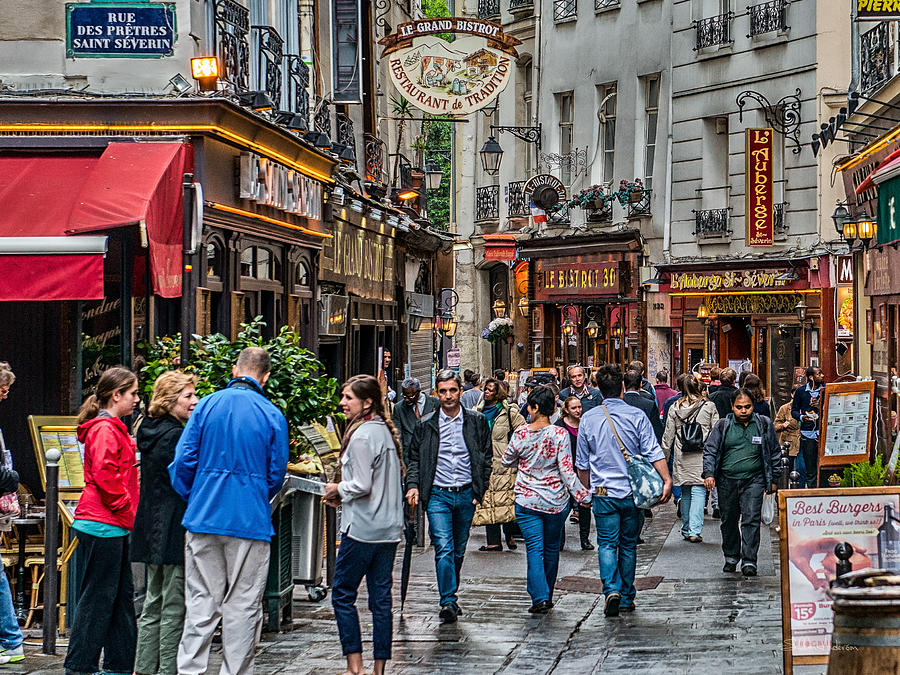person: (405, 372, 492, 617), (328, 374, 399, 673), (702, 392, 777, 576)
